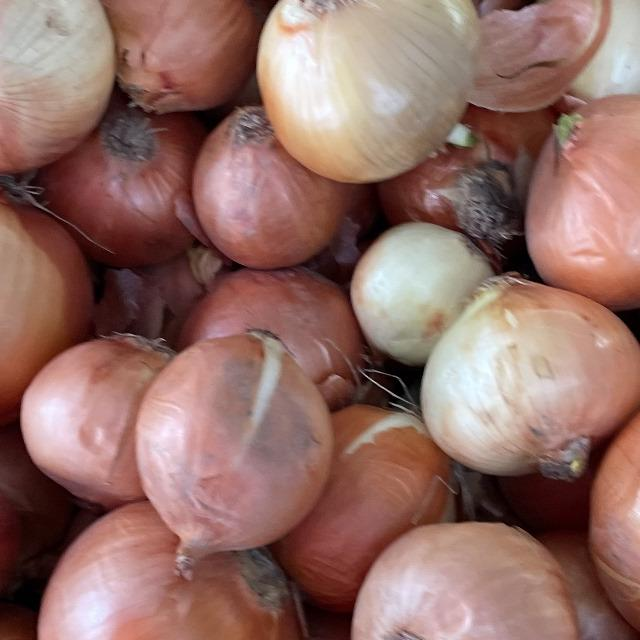onion: (110, 302, 350, 582), (407, 252, 640, 497), (225, 0, 510, 197), (327, 502, 600, 640), (0, 160, 120, 470), (0, 0, 137, 200)
